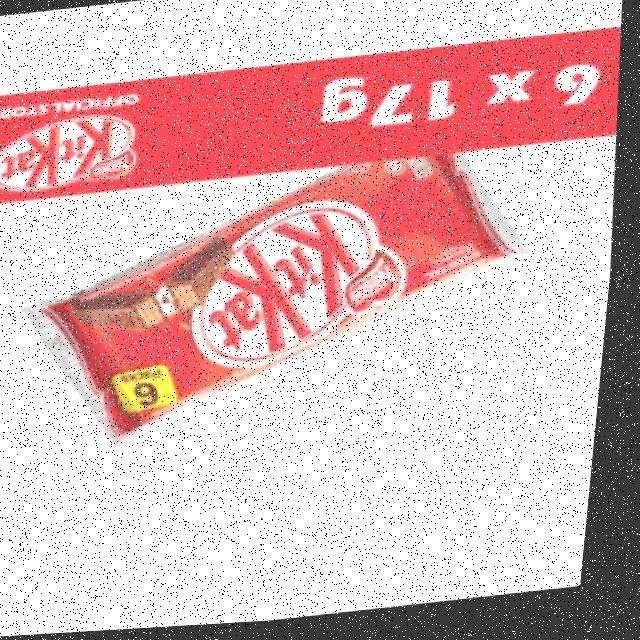kitkat: (10, 148, 561, 460)
